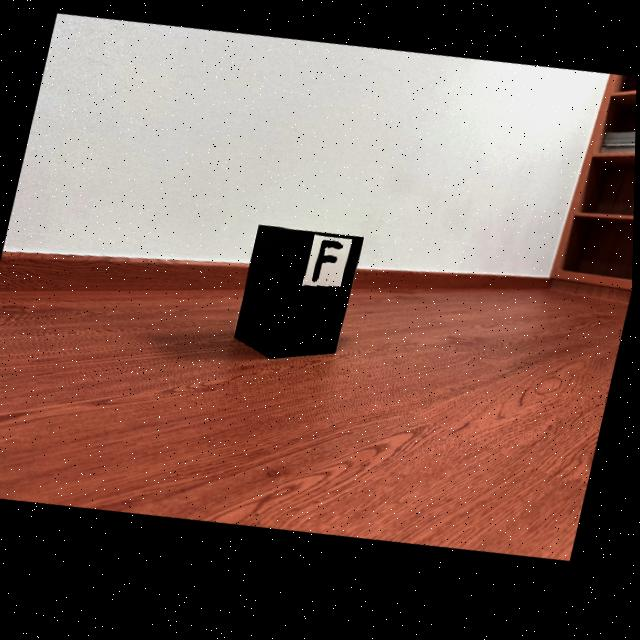F: (313, 247, 343, 289)
